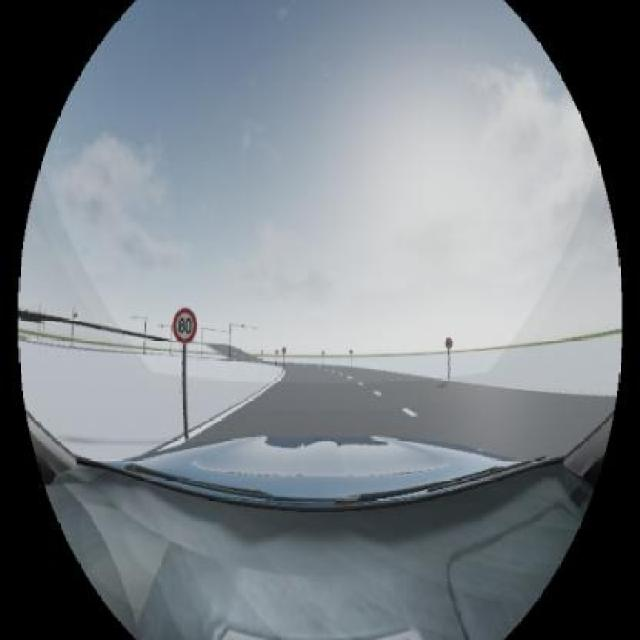forb_speed_over_80: (172, 306, 198, 345)
